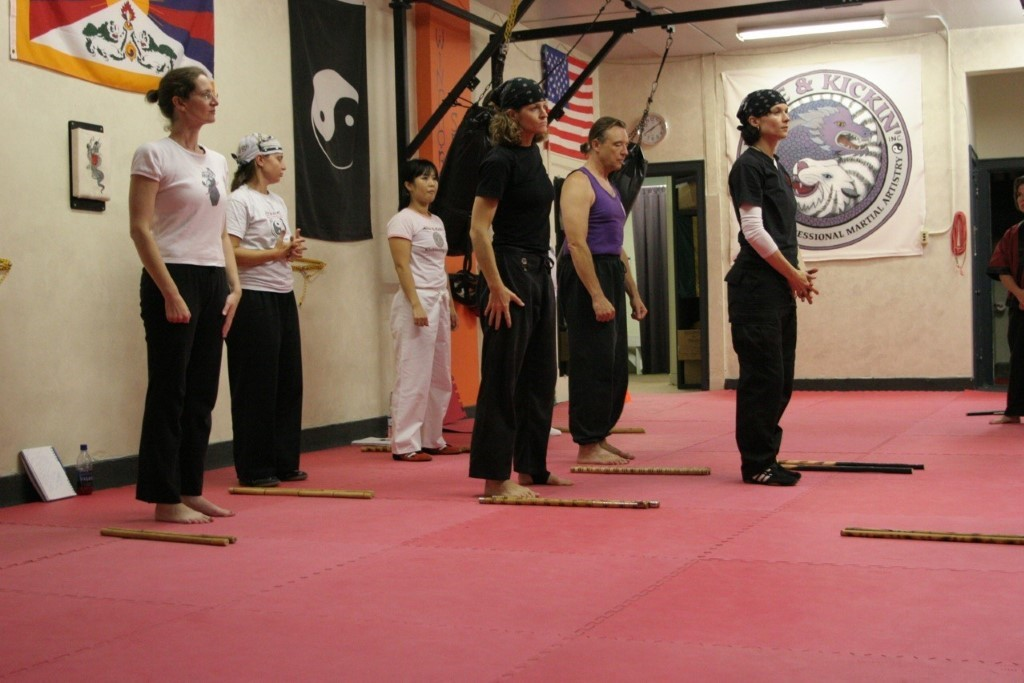baston_e: (844, 528, 1022, 544), (101, 527, 219, 546), (484, 495, 643, 508), (783, 456, 920, 469), (232, 486, 369, 498), (783, 462, 908, 475), (572, 465, 707, 477)
baston_v: (702, 464, 716, 478), (97, 524, 108, 535), (365, 490, 377, 500), (567, 464, 579, 474), (475, 495, 486, 505), (652, 498, 663, 508), (227, 535, 240, 543), (918, 462, 928, 471), (906, 466, 916, 475), (838, 526, 846, 536), (226, 485, 235, 493), (221, 538, 229, 545)
